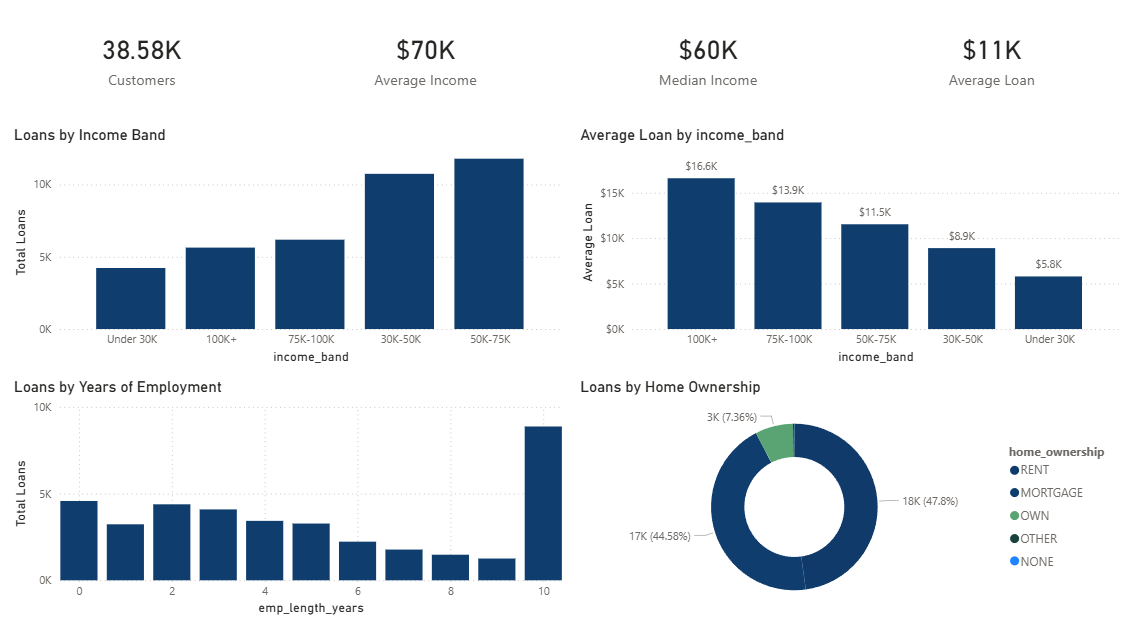

This screenshot's page, from the dashboard's own definition file:
{"tool":"powerbi","page":{"name":"Customer Analytics","canvas":[1280,720],"ordinal":1},"visuals":[{"type":"card","fields":{"Values":["Count(Loans.member_id)"]},"box":[20,20,295,110],"z":0},{"type":"card","fields":{"Values":["Loans.Average Income"]},"box":[335,20,295,110],"z":1000},{"type":"card","fields":{"Values":["Loans.Median Income"]},"box":[650,20,295,110],"z":2000},{"type":"card","fields":{"Values":["Loans.Average Loan"]},"box":[965,20,295,110],"z":3000},{"type":"clusteredColumnChart","title":"Loans by Income Band","fields":{"Category":["Loans.income_band"],"Y":["Loans.Total Loans"]},"box":[20,150,620,270],"z":4000},{"type":"clusteredColumnChart","fields":{"Category":["Loans.income_band"],"Y":["Loans.Average Loan"]},"box":[650,150,610,270],"z":5000},{"type":"clusteredColumnChart","title":"Loans by Years of Employment","fields":{"Category":["Loans.emp_length_years"],"Y":["Loans.Total Loans"]},"box":[20,430,620,270],"z":6000},{"type":"donutChart","title":"Loans by Home Ownership","fields":{"Category":["Loans.home_ownership"],"Y":["Loans.Total Loans"]},"box":[650,430,610,270],"z":7000}]}

Visuals, with their boxes in screenshot pixels (x1, y1, x2, y2), scaled from the page's 1280x720 canvas onto the 1136x633 screenshot:
card - Count(Loans.member_id): x1=18 y1=18 x2=280 y2=114
card - Loans.Average Income: x1=297 y1=18 x2=559 y2=114
card - Loans.Median Income: x1=577 y1=18 x2=839 y2=114
card - Loans.Average Loan: x1=856 y1=18 x2=1118 y2=114
"Loans by Income Band" clusteredColumnChart: x1=18 y1=132 x2=568 y2=369
clusteredColumnChart - Loans.income_band x Loans.Average Loan: x1=577 y1=132 x2=1118 y2=369
"Loans by Years of Employment" clusteredColumnChart: x1=18 y1=378 x2=568 y2=615
"Loans by Home Ownership" donutChart: x1=577 y1=378 x2=1118 y2=615
